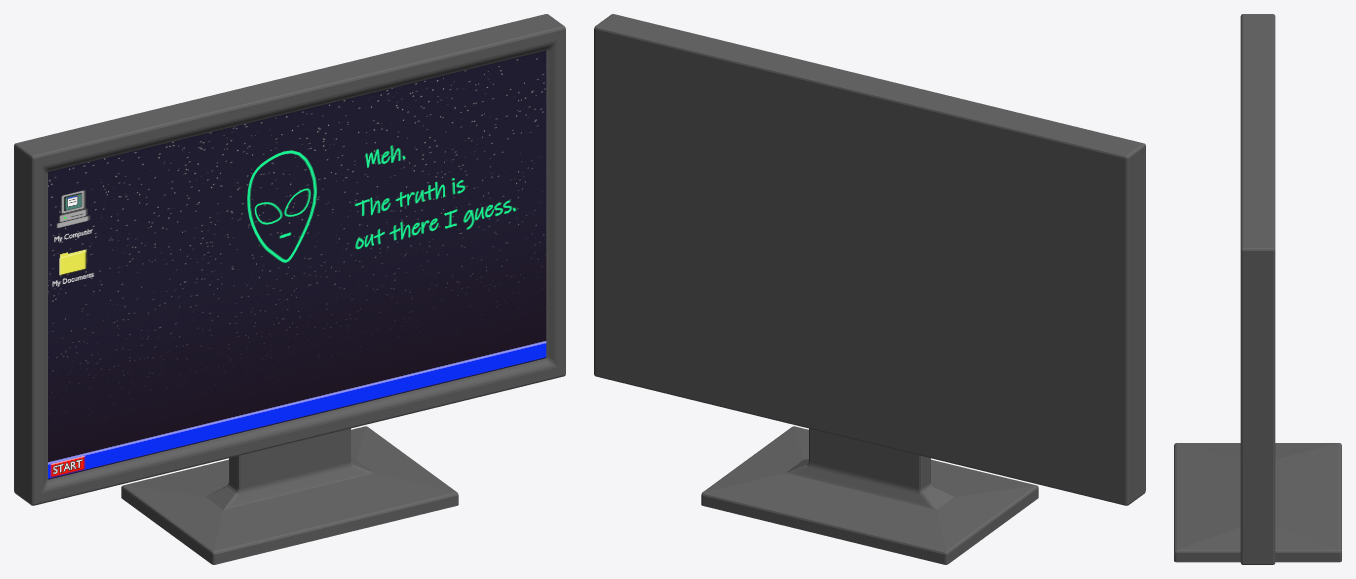
The model's file is monitor.fbx.
3 renders of one model, left to right at view 1: azimuth 30°, elevation 25°; view 2: azimuth 150°, elevation 25°; view 3: azimuth 270°, elevation 25°, orthographic. The views are drawn at different scales.
Parts seen in each view (by area): view 1: Cube; view 2: Cube; view 3: Cube.
Part boxes in pixels (x1,y1,x2,y2): Cube: [14, 14, 565, 564]; Cube: [594, 14, 1145, 564]; Cube: [1174, 14, 1341, 564].
Bounding box in the file's own units: 200 × 149 × 60.13.
